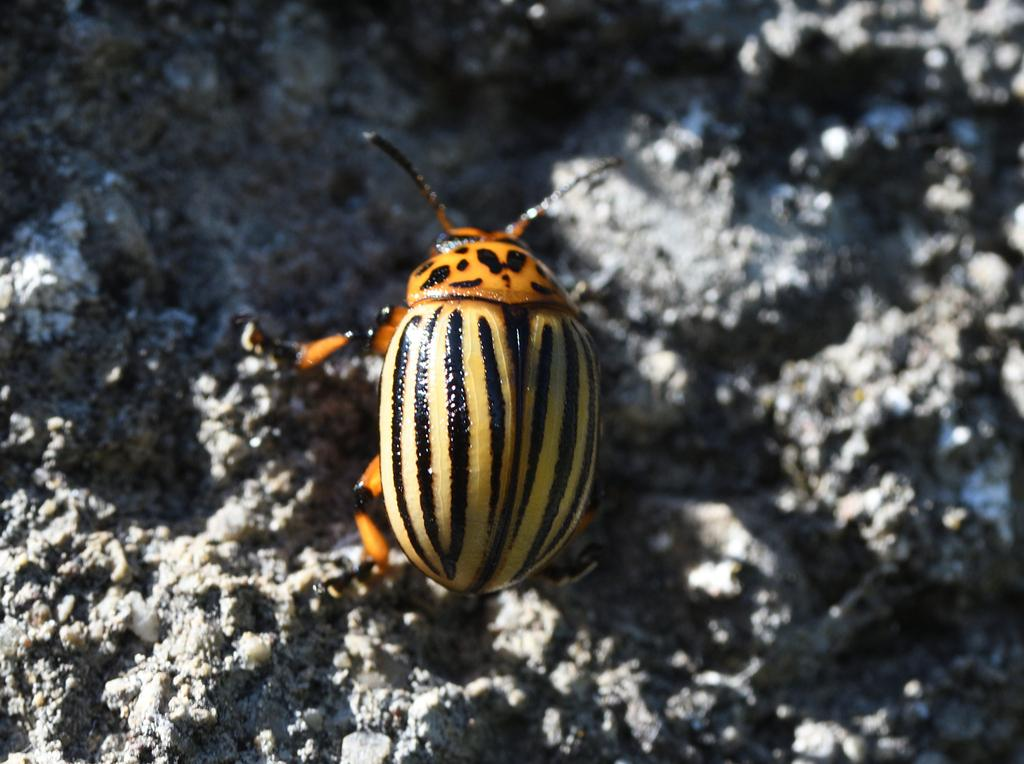potato_beetle: (239, 73, 704, 634)
